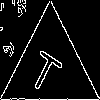T: (25, 41, 68, 96)
